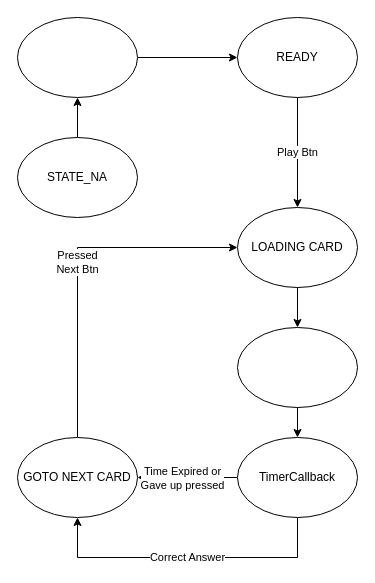
Image size: 375x583. Some labels were removed from this diagram. Here are the shapes that lost their labels. From the top down, the centre of each, then its label:
(x=77, y=57): LOADING EDITION
(x=297, y=367): WAIT FOR GUESS
